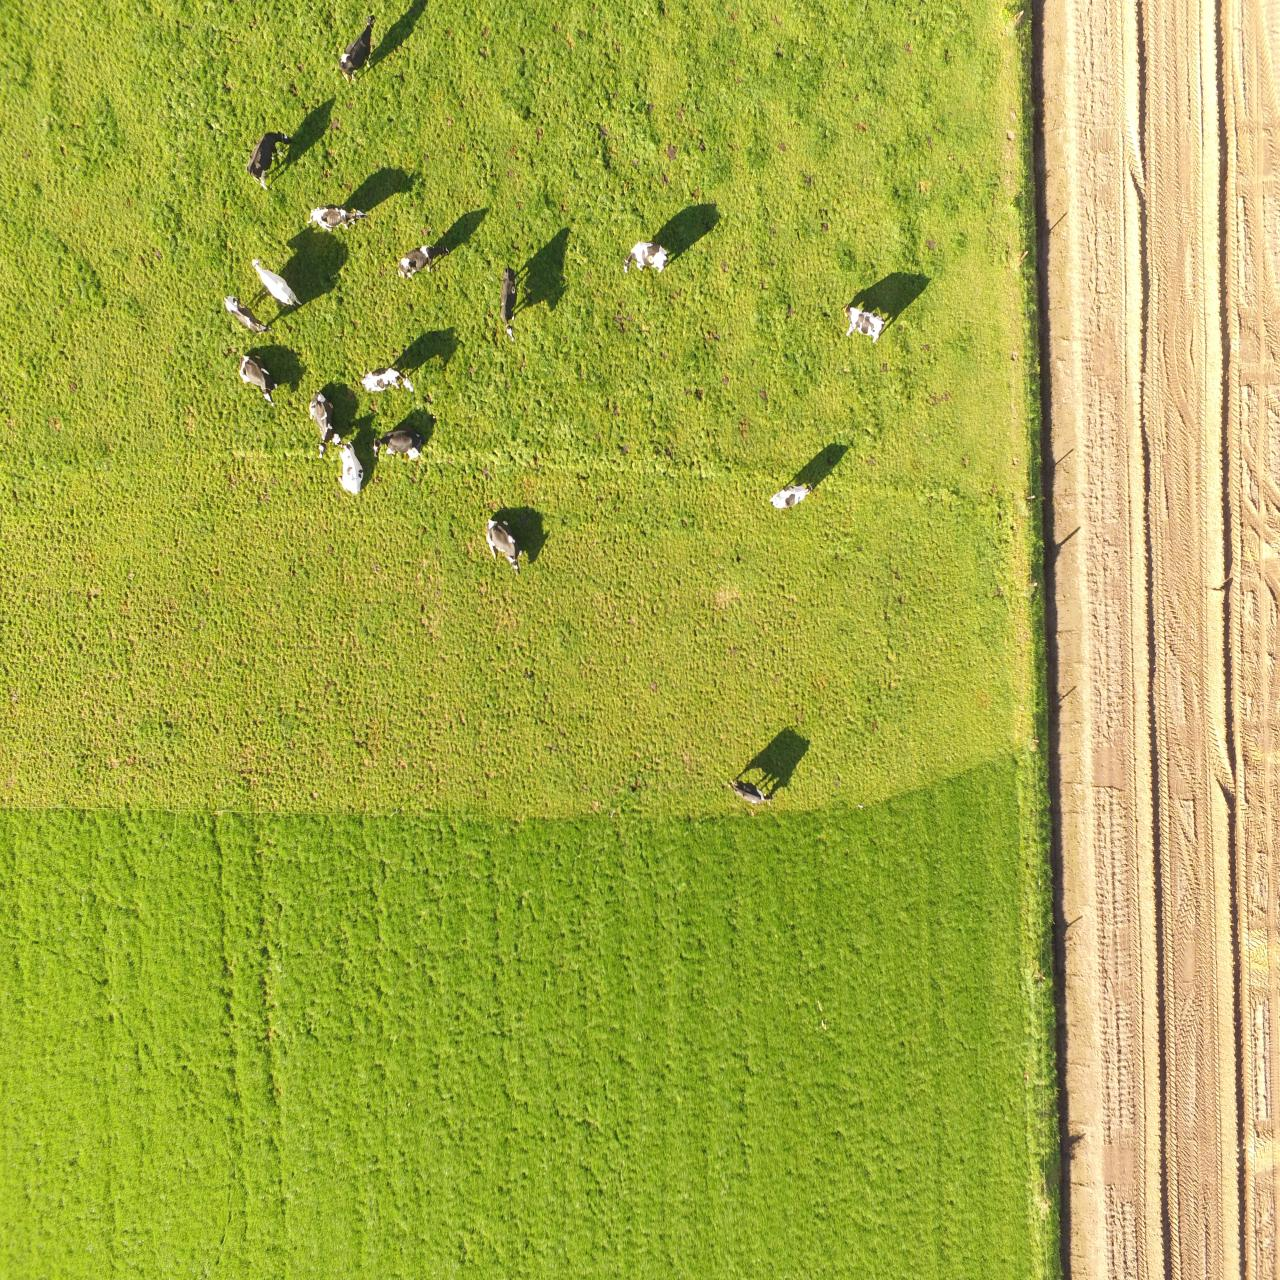cow: (336, 13, 377, 83), (250, 256, 305, 307), (247, 130, 293, 192), (237, 353, 278, 409), (223, 294, 274, 335), (394, 241, 450, 279), (485, 516, 520, 576), (839, 300, 887, 343), (372, 424, 425, 461), (305, 202, 370, 231), (308, 390, 336, 458), (358, 361, 415, 394), (621, 239, 670, 277), (723, 772, 771, 810), (333, 436, 363, 493), (497, 261, 517, 348), (768, 479, 815, 508)
